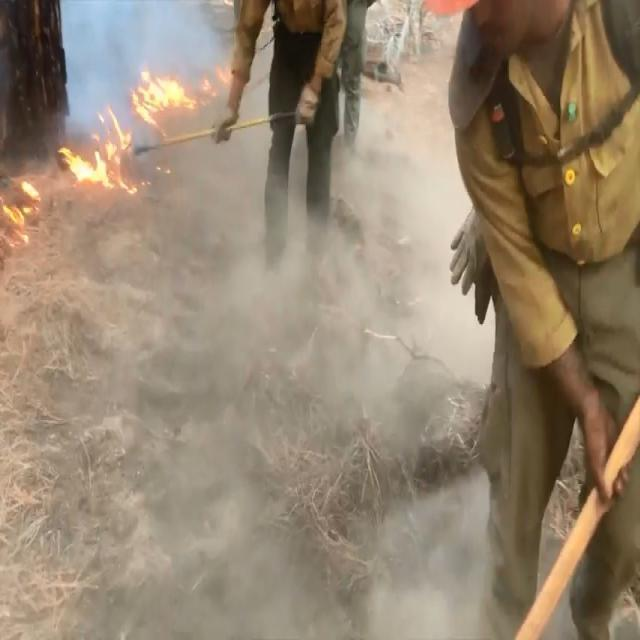Fire: (3, 60, 231, 255)
